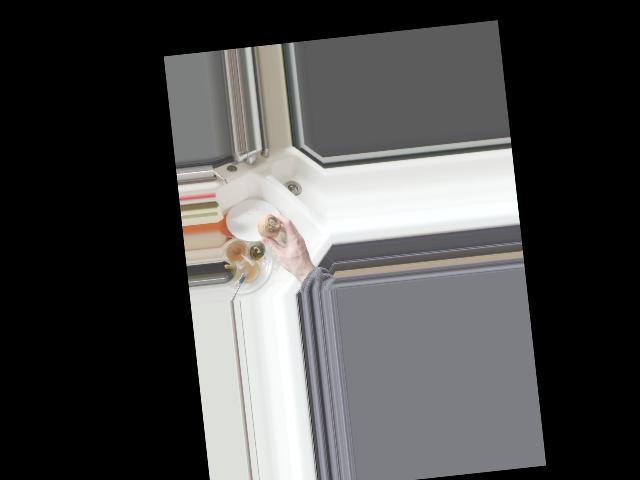sweet_potato: (255, 211, 283, 245)
